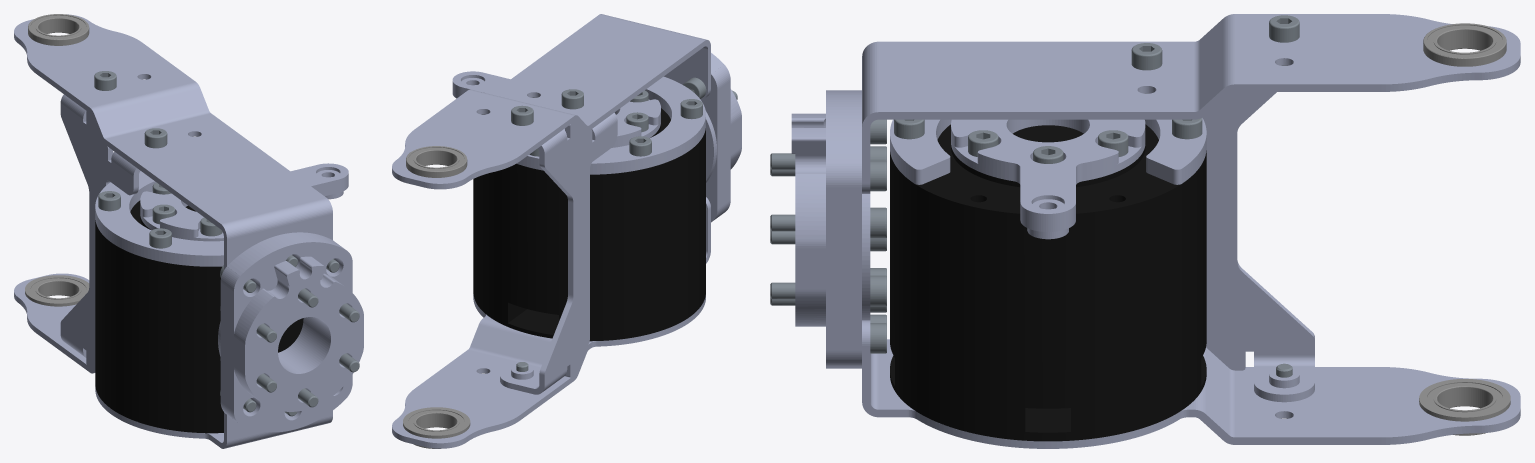
File: left_arm_l5.glb
The picture shows the model from 3 angles, left to right: view 1: azimuth 30°, elevation 25°; view 2: azimuth 150°, elevation 25°; view 3: azimuth 270°, elevation 25°; orthographic projection. The views are drawn at different scales.
Visible parts, largest first — view 1: world; view 2: world; view 3: world.
Part boxes in pixels (<box>): world: <box>14,14,363,448</box>; world: <box>392,14,741,448</box>; world: <box>770,14,1520,448</box>.
Bounding box in the file's own units: 66.5 × 77.6 × 135.
